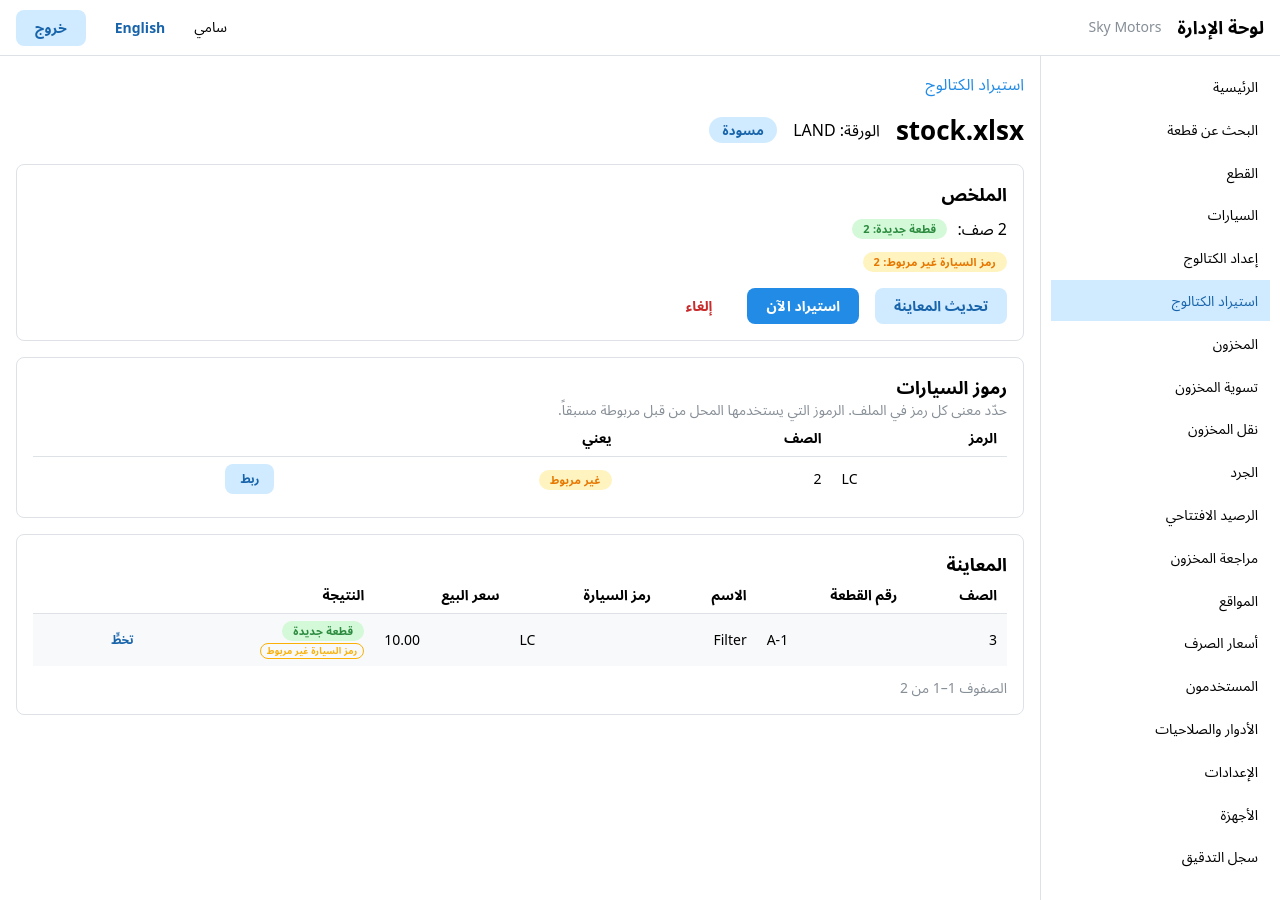
Test: import wizard › maps a vehicle code, previews and applies
Click the button "ربط" at [250, 479], box [225,464,274,494]
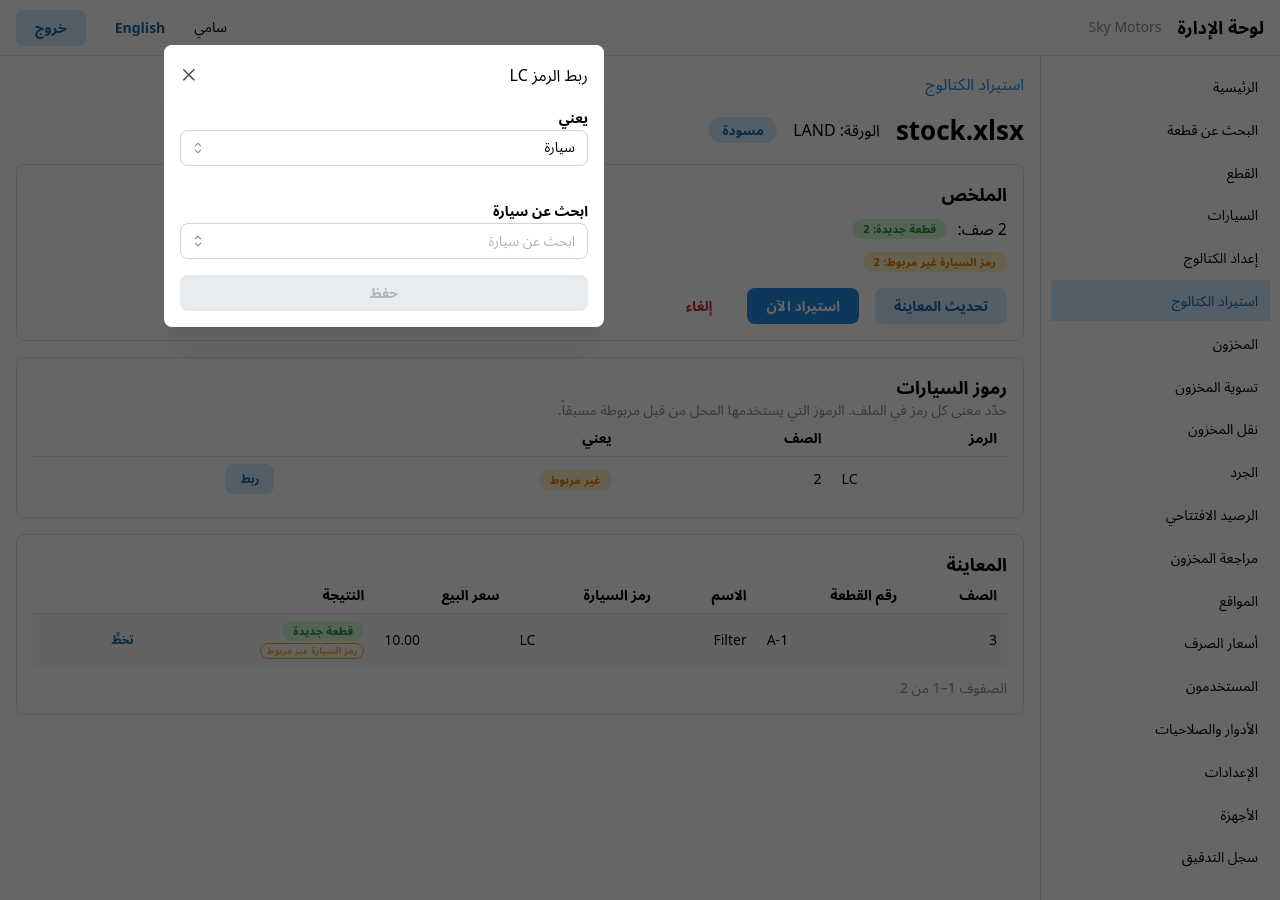
Type "land" into the dropdown labelled "ابحث عن سيارة" at [384, 241], box [180,223,588,259]
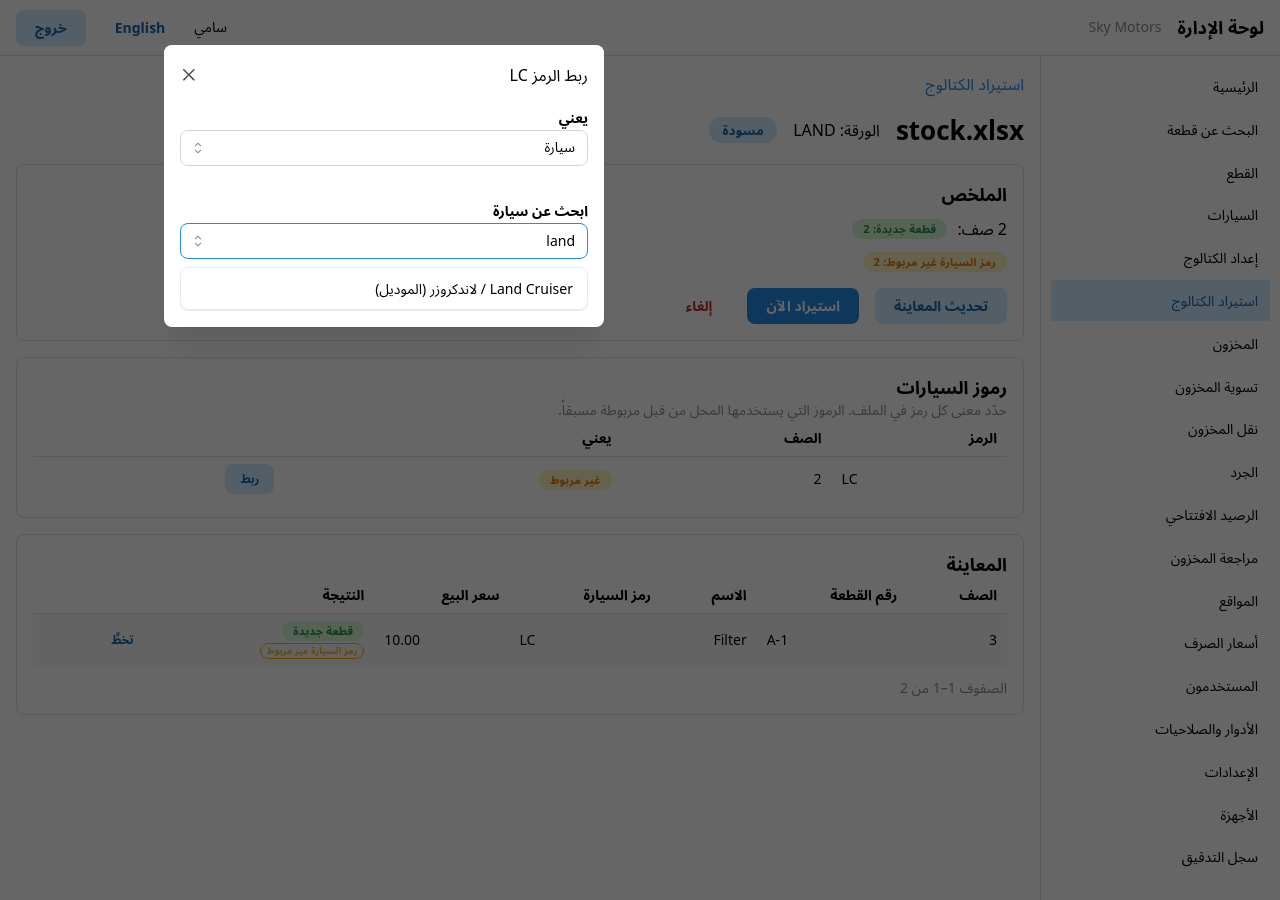
Click the option "Land Cruiser / لاندكروزر (الموديل)" at [474, 288], box [375,279,573,298]
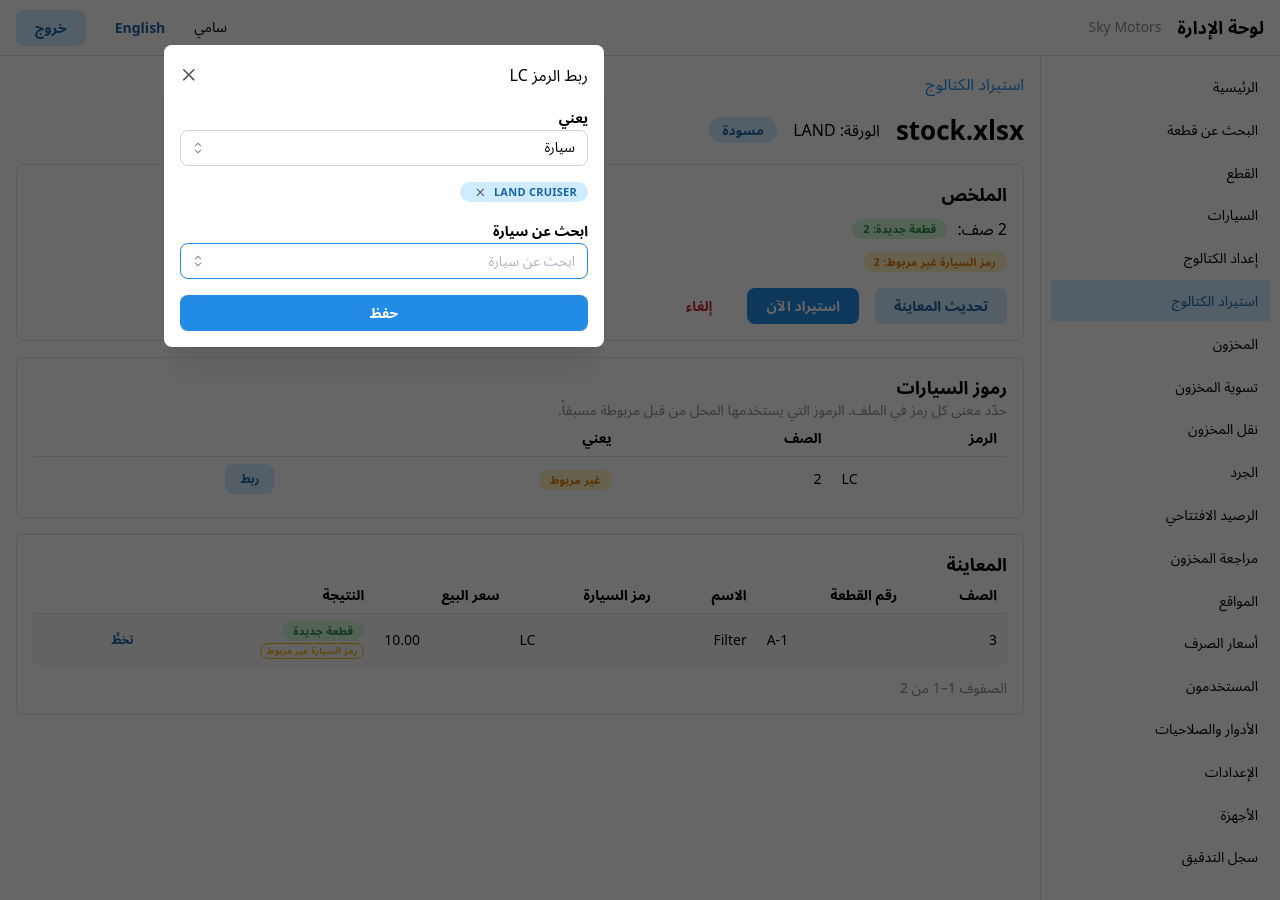
Click the button "حفظ" at [384, 313], box [180,295,588,331]
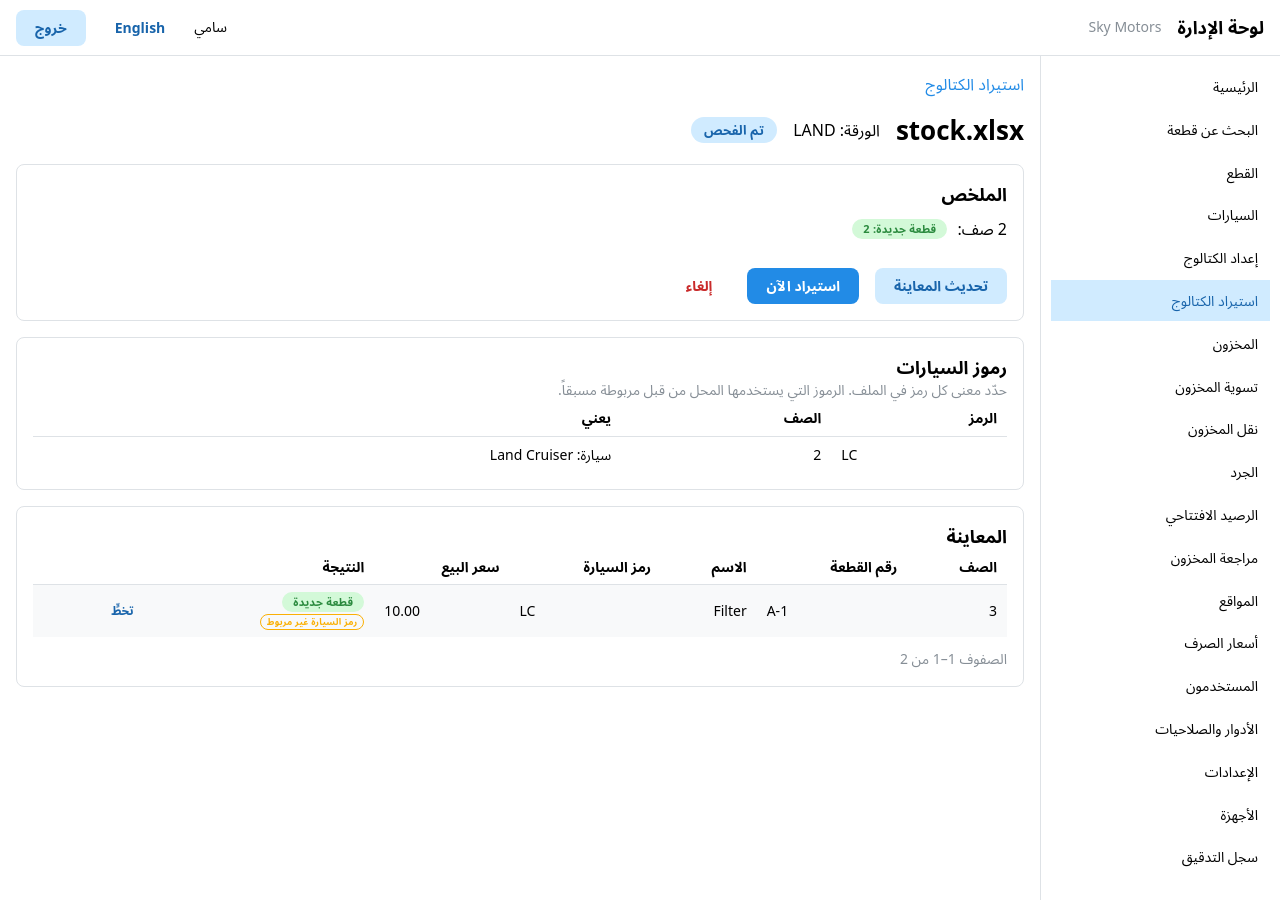
Result: the text "تم الفحص" is shown at [704,118,764,142]
Click the button "استيراد الآن" at [803, 286], box [747,268,859,304]
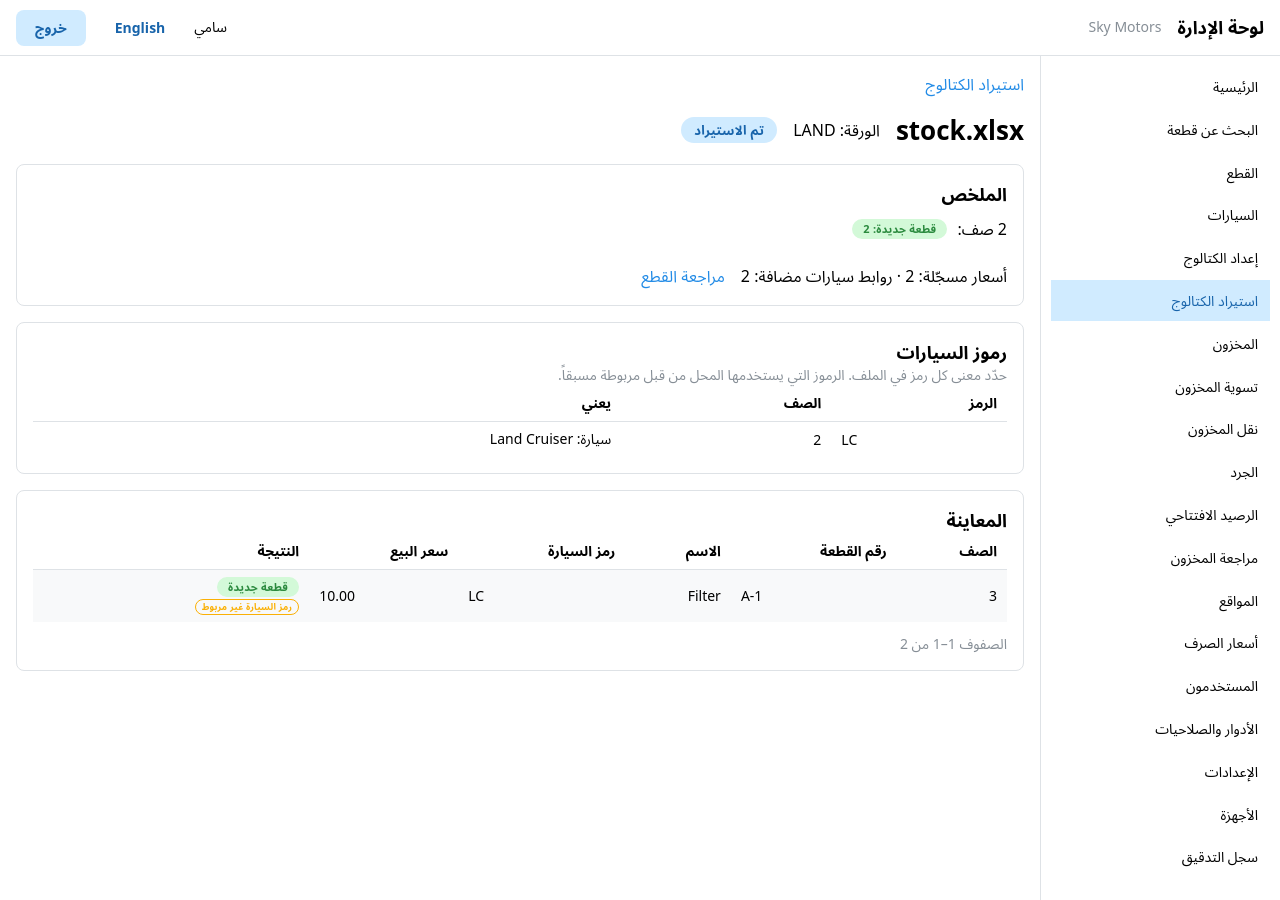
Result: the text "تم الاستيراد" is shown at [694,118,764,142]
